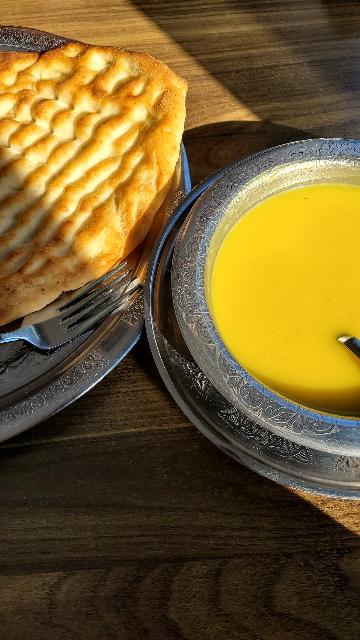Metal: (0, 265, 147, 379)
Organik: (0, 48, 184, 314), (236, 192, 360, 392)
